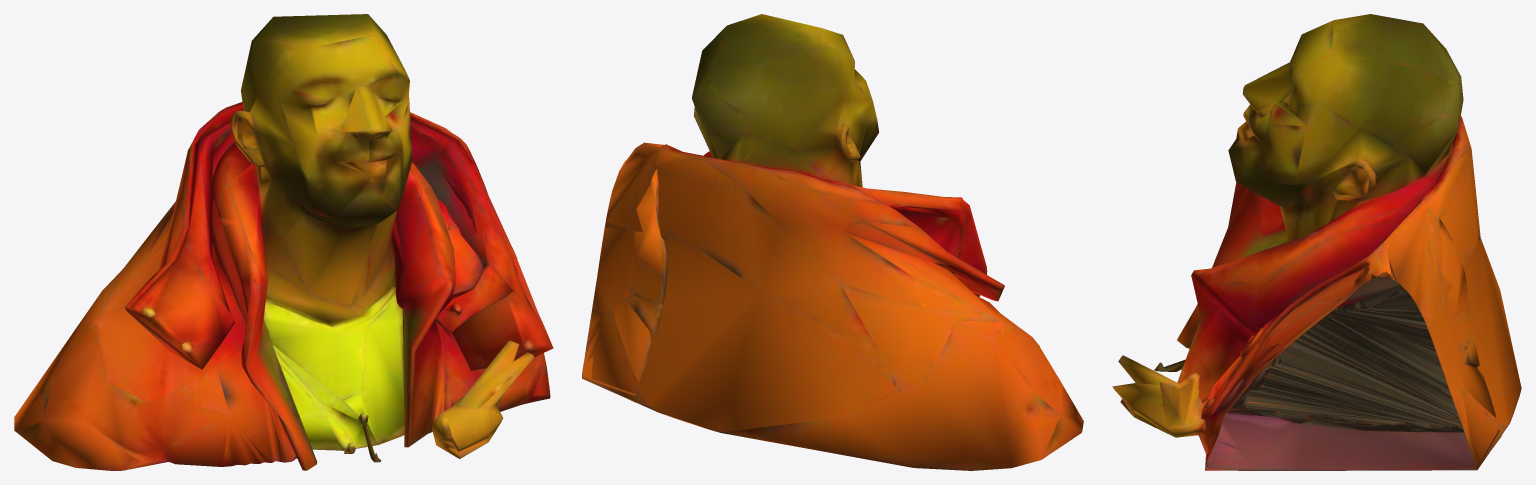
The model's file is drake.glb.
The picture shows the model from 3 angles, left to right: view 1: azimuth 30°, elevation 25°; view 2: azimuth 150°, elevation 25°; view 3: azimuth 270°, elevation 25°; orthographic projection. The views are drawn at different scales.
Parts seen in each view (by area): view 1: node_0; view 2: node_0; view 3: node_0.
Part boxes in pixels (x1,y1,x2,y2): node_0: [14, 14, 553, 470]; node_0: [582, 14, 1083, 470]; node_0: [1112, 14, 1521, 470].
Size of the model in its own units: 0.8554 by 0.6501 by 0.6651.
Materials: 1 (1 with a texture image).
